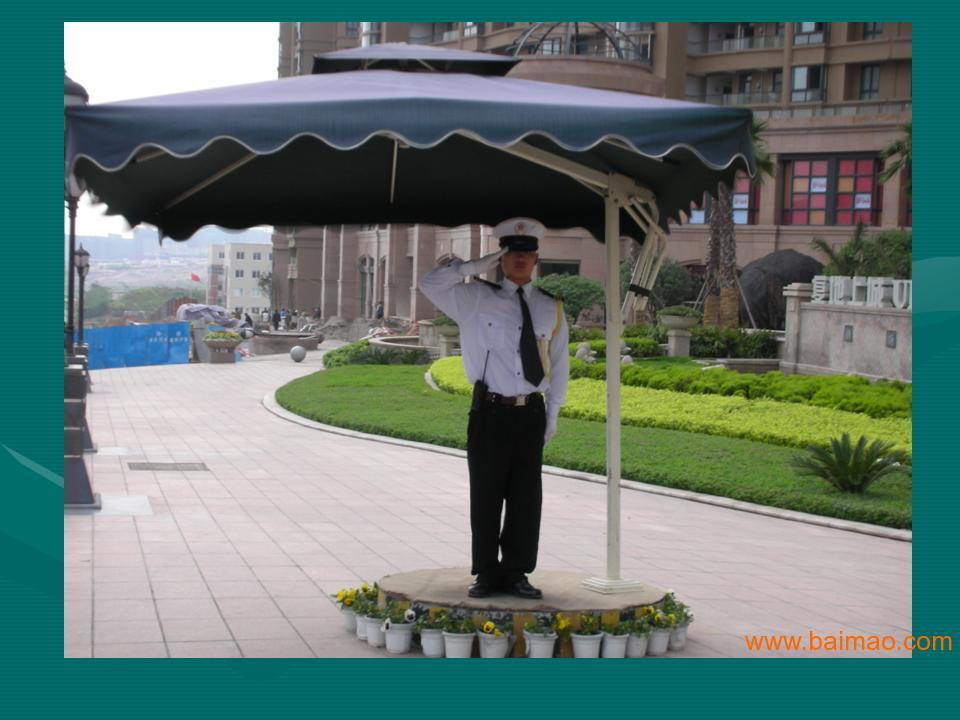up: (417, 205, 573, 607)
